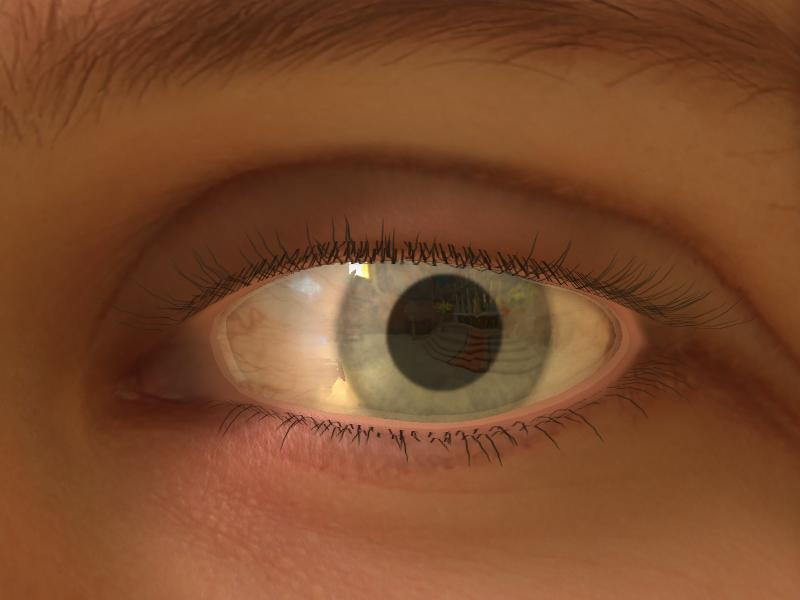eye: (340, 257, 548, 421)
